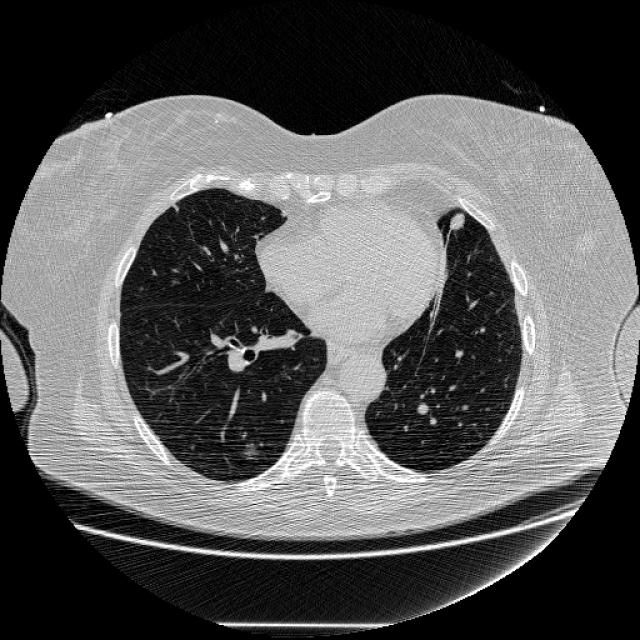nodule: (438, 202, 472, 238)
